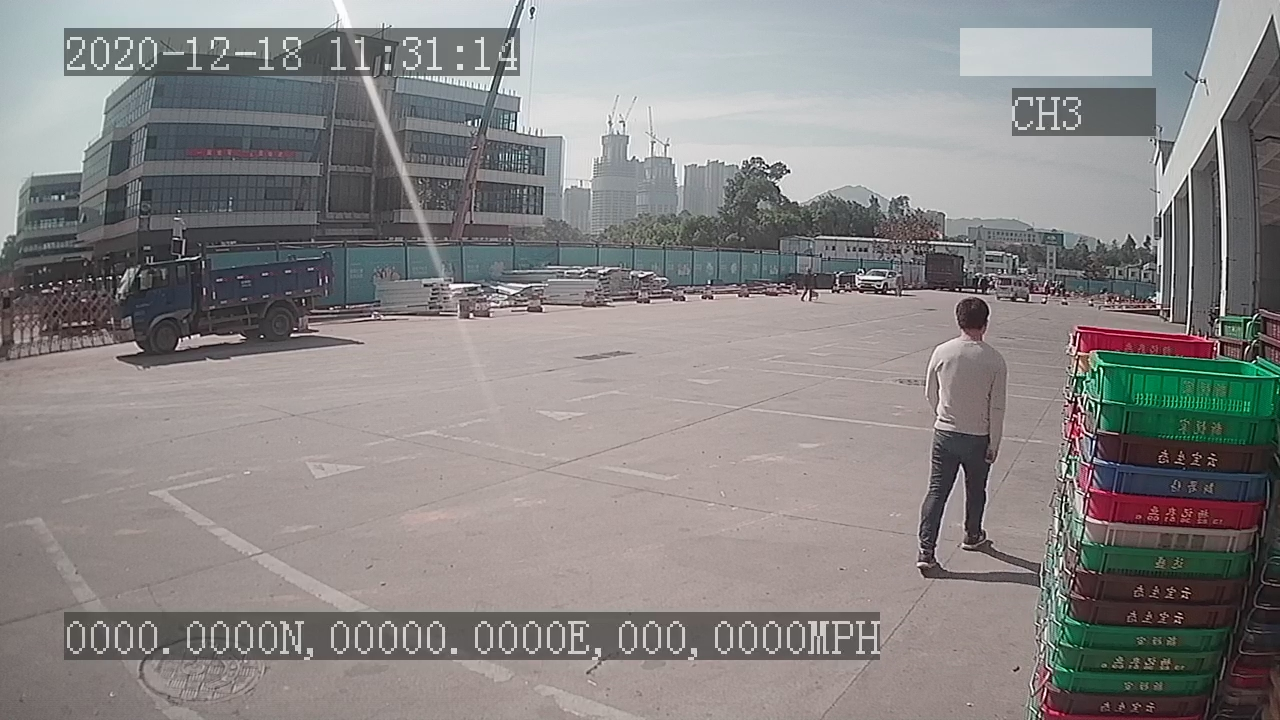person: (912, 296, 1009, 573)
